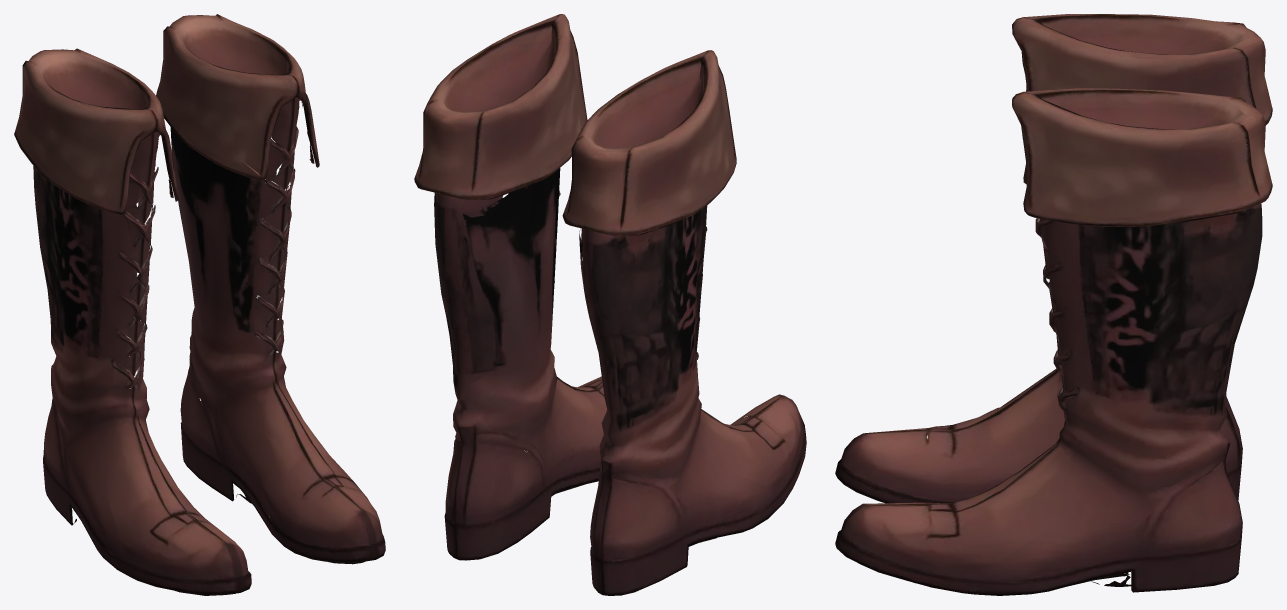
Rendered from assassin_f_boots.glb.
The picture shows the model from 3 angles, left to right: view 1: azimuth 30°, elevation 25°; view 2: azimuth 150°, elevation 25°; view 3: azimuth 270°, elevation 25°; orthographic projection. The views are drawn at different scales.
Visible parts, largest first — view 1: lo; view 2: lo; view 3: lo.
Part boxes in pixels (bbox=[...]): lo: bbox=[14, 14, 385, 595]; lo: bbox=[414, 14, 806, 595]; lo: bbox=[835, 14, 1272, 595].
Bounding box in the file's own units: 0.32 × 0.575 × 0.47.
Materials: 1 (1 with a texture image).
